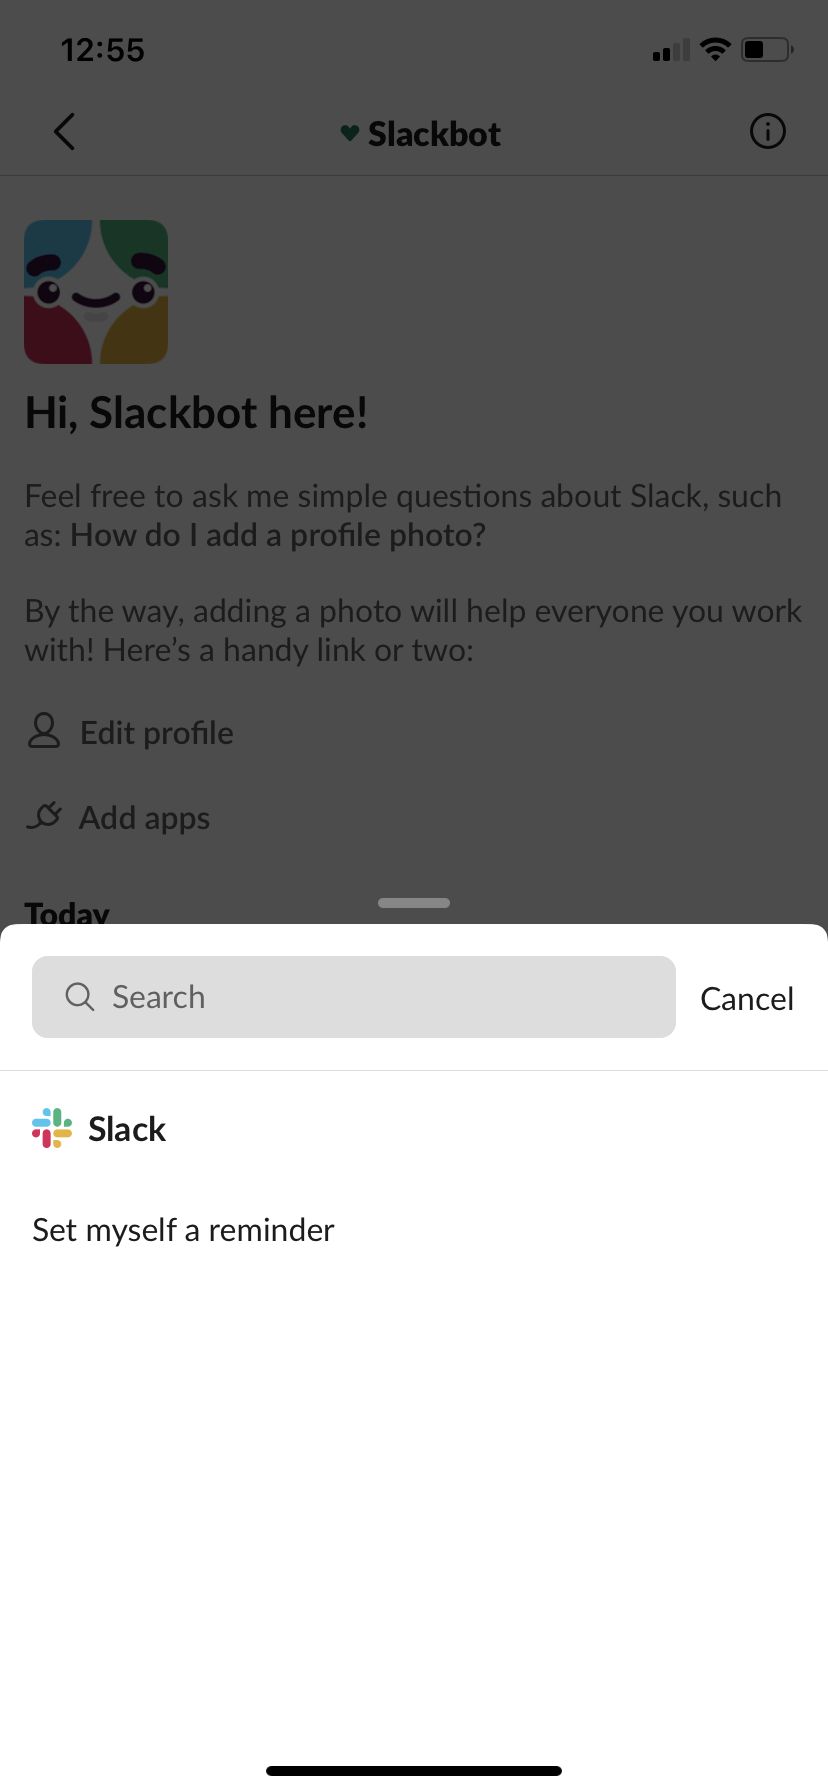Buttons: (683, 950, 814, 1040), (729, 87, 809, 169), (25, 89, 96, 169)
